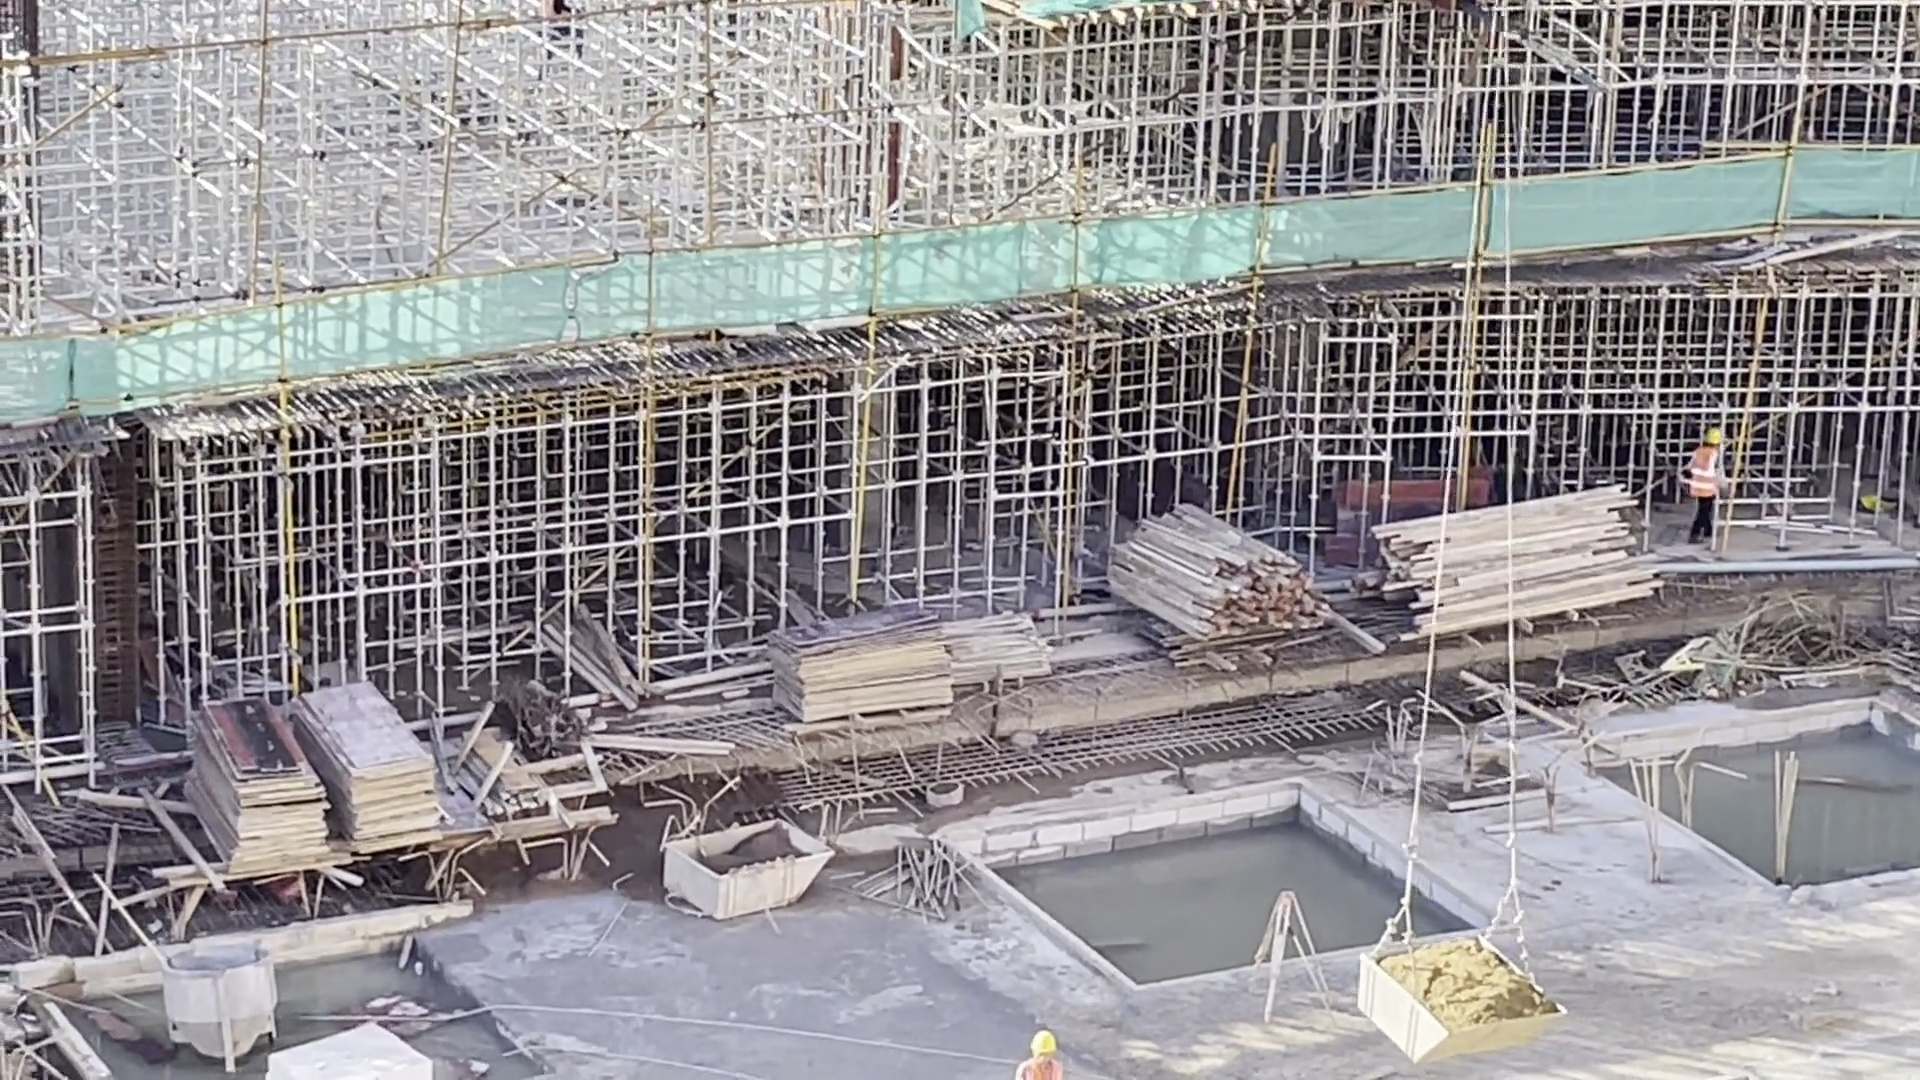board: (180, 694, 336, 887), (304, 675, 452, 857), (756, 604, 966, 731)
brick: (262, 1019, 430, 1080)
helmet: (1027, 1027, 1059, 1056), (1704, 427, 1722, 445)
hopper: (1347, 931, 1563, 1058), (650, 813, 833, 913), (150, 939, 274, 1072)
person: (1689, 427, 1728, 547), (1010, 1026, 1063, 1080)
vest: (1690, 449, 1724, 499)
wood: (1362, 482, 1670, 641), (1104, 501, 1334, 635)
